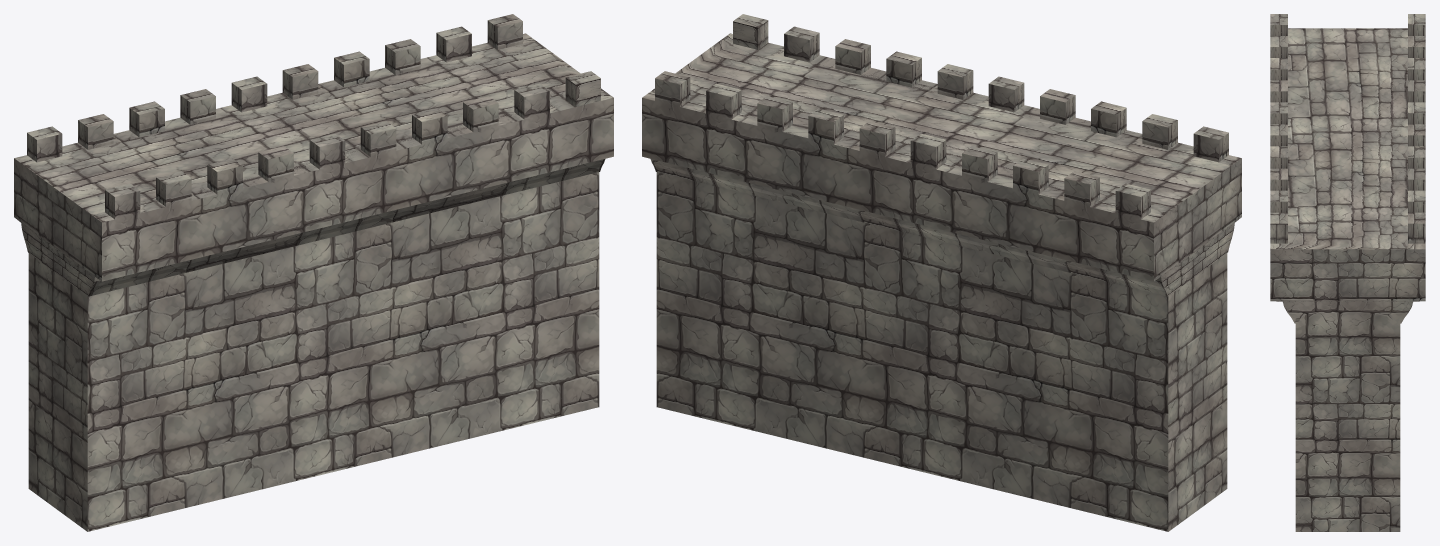
File: StoneWall.fbx
3 renders of one model, left to right at view 1: azimuth 30°, elevation 25°; view 2: azimuth 150°, elevation 25°; view 3: azimuth 270°, elevation 25°, orthographic. The views are drawn at different scales.
Visible parts, largest first — view 1: StoneWall; view 2: StoneWall; view 3: StoneWall.
Boxes of the visible parts, x1,y1,x2,y2 form: StoneWall: (14, 14, 613, 531); StoneWall: (642, 14, 1241, 531); StoneWall: (1270, 14, 1425, 531).
Bounding box in the file's own units: 1000 × 639 × 298.
